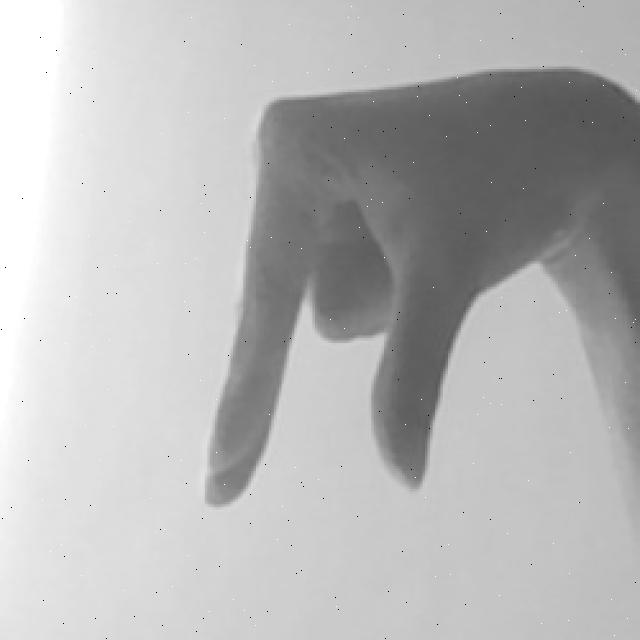Q: (191, 45, 640, 528)
